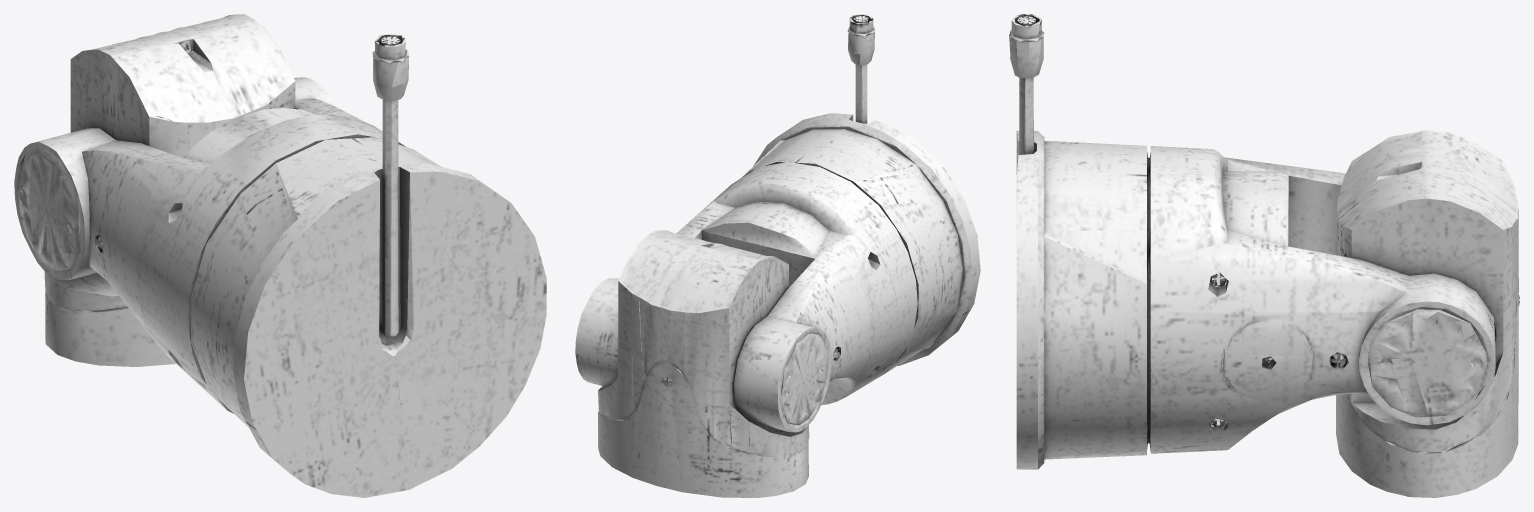
The model's file is eye_vision_camera.dae.
The picture shows the model from 3 angles, left to right: view 1: azimuth 30°, elevation 25°; view 2: azimuth 150°, elevation 25°; view 3: azimuth 270°, elevation 25°; orthographic projection. The views are drawn at different scales.
Visible parts, largest first — view 1: screws; view 2: screws; view 3: screws.
Boxes of the visible parts, <box> form: screws: <box>14,14,546,497</box>; screws: <box>575,14,980,497</box>; screws: <box>1009,14,1519,497</box>.
Size of the model in its own units: 0.108 by 0.1632 by 0.1527.
1 material, 1 textured.
